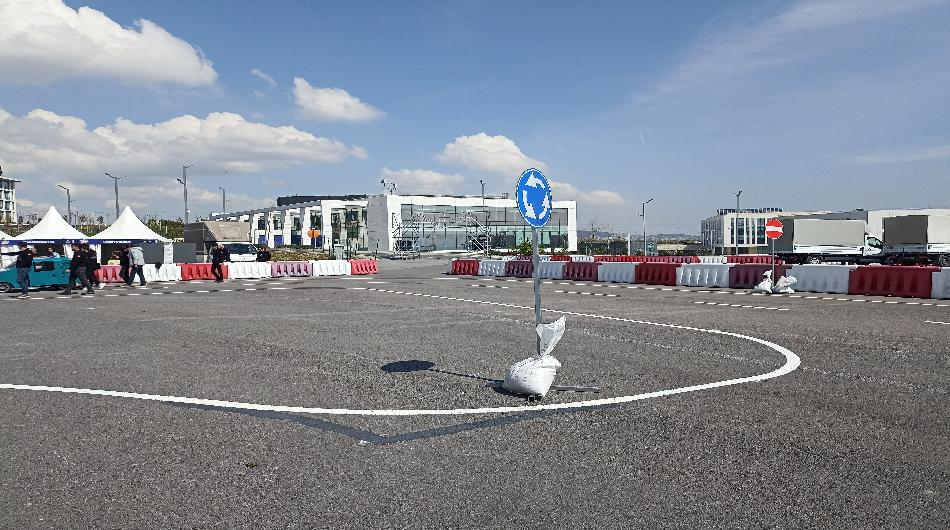ada: (518, 170, 556, 229)
girilmez: (762, 216, 785, 246)
